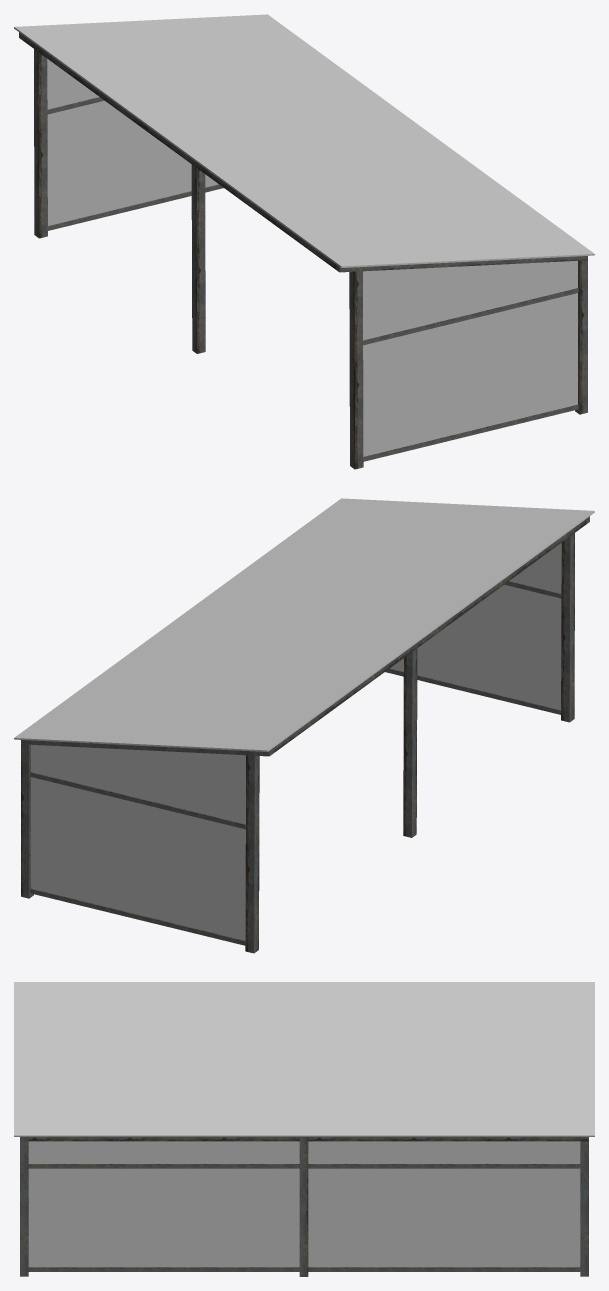
Rendered from MetalShedA.FBX.
3 renders of one model, top to bottom at view 1: azimuth 30°, elevation 25°; view 2: azimuth 150°, elevation 25°; view 3: azimuth 270°, elevation 25°, orthographic. The views are drawn at different scales.
Parts seen in each view (by area): view 1: MetalShedA; view 2: MetalShedA; view 3: MetalShedA.
Boxes of the visible parts, x1=… form: MetalShedA: x1=14, y1=14, x2=594, y2=469; MetalShedA: x1=14, y1=498, x2=594, y2=953; MetalShedA: x1=14, y1=982, x2=594, y2=1276.
Bounding box in the file's own units: 444 × 351 × 993.
